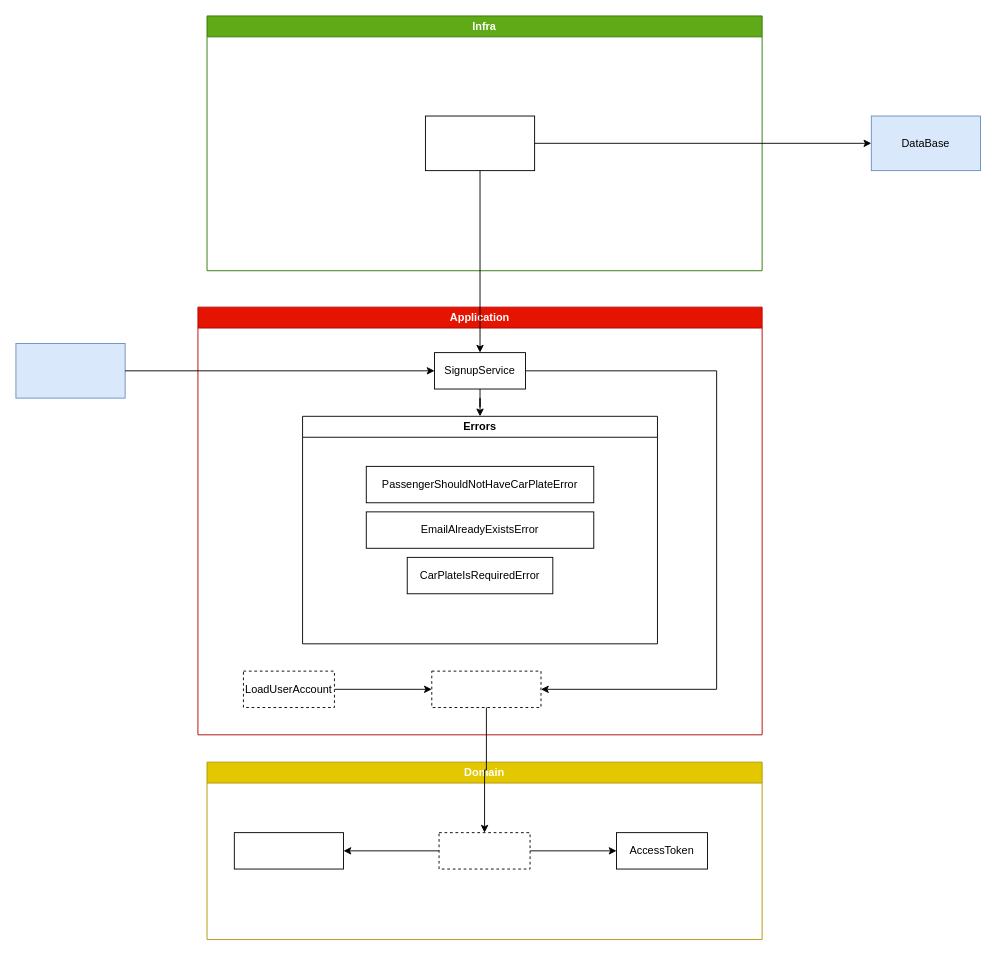
Some shapes in this 996 by 956 pixel diagram are drawn without their labels. The shapes that lost their labels are listed below. From the top down, each one's centre as x and y in pixels, then its label:
At (x=480, y=143): "UserRepository".
At (x=70, y=370): "JasonWebToken".
At (x=486, y=689): "AuthenticationService".
At (x=288, y=850): "AuthenticationParams".
At (x=484, y=850): "Authentication".
